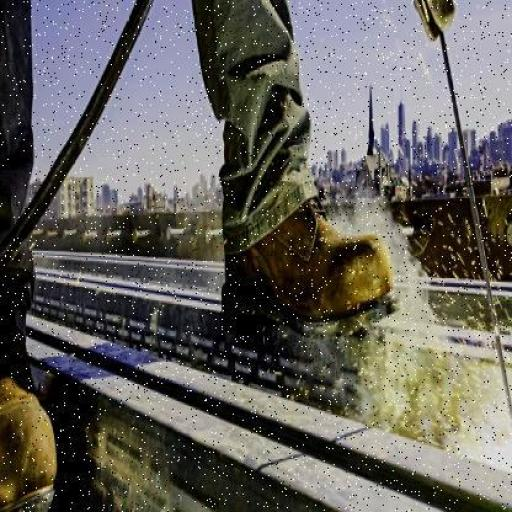safety_shoe: (212, 210, 394, 338), (0, 325, 62, 509)
